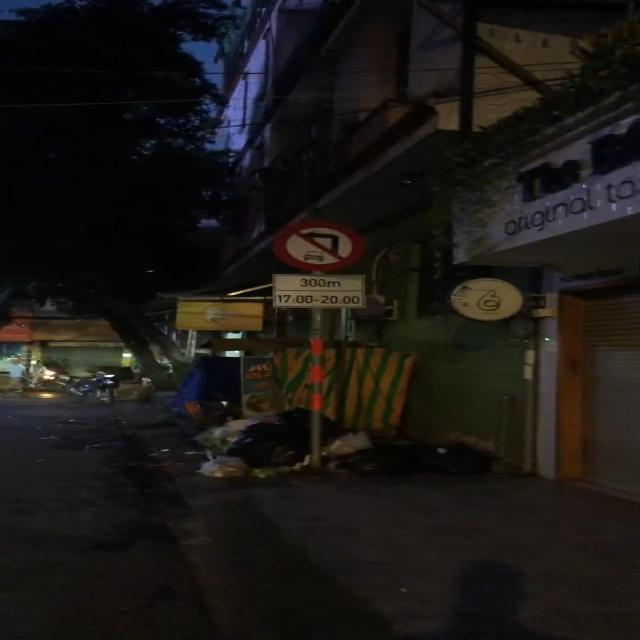Bien bao cam xe o to re trai: (269, 220, 366, 274)
